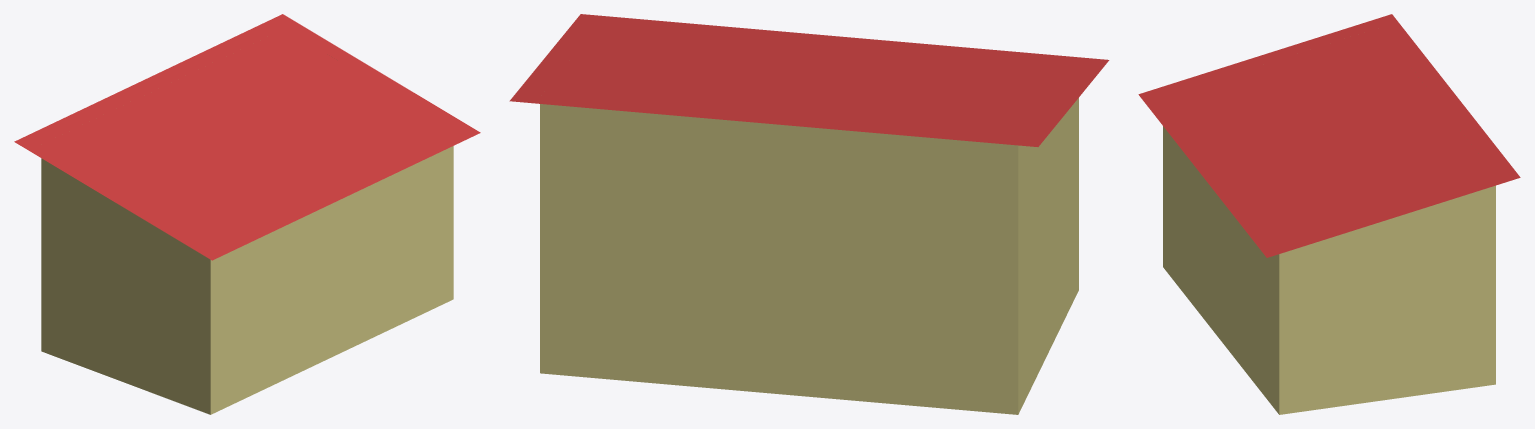
3 renders of one model, left to right at view 1: azimuth 30°, elevation 25°; view 2: azimuth 150°, elevation 25°; view 3: azimuth 270°, elevation 25°, orthographic. The views are drawn at different scales.
Bounding box in the file's own units: 12.07 × 9.79 × 5.99.
